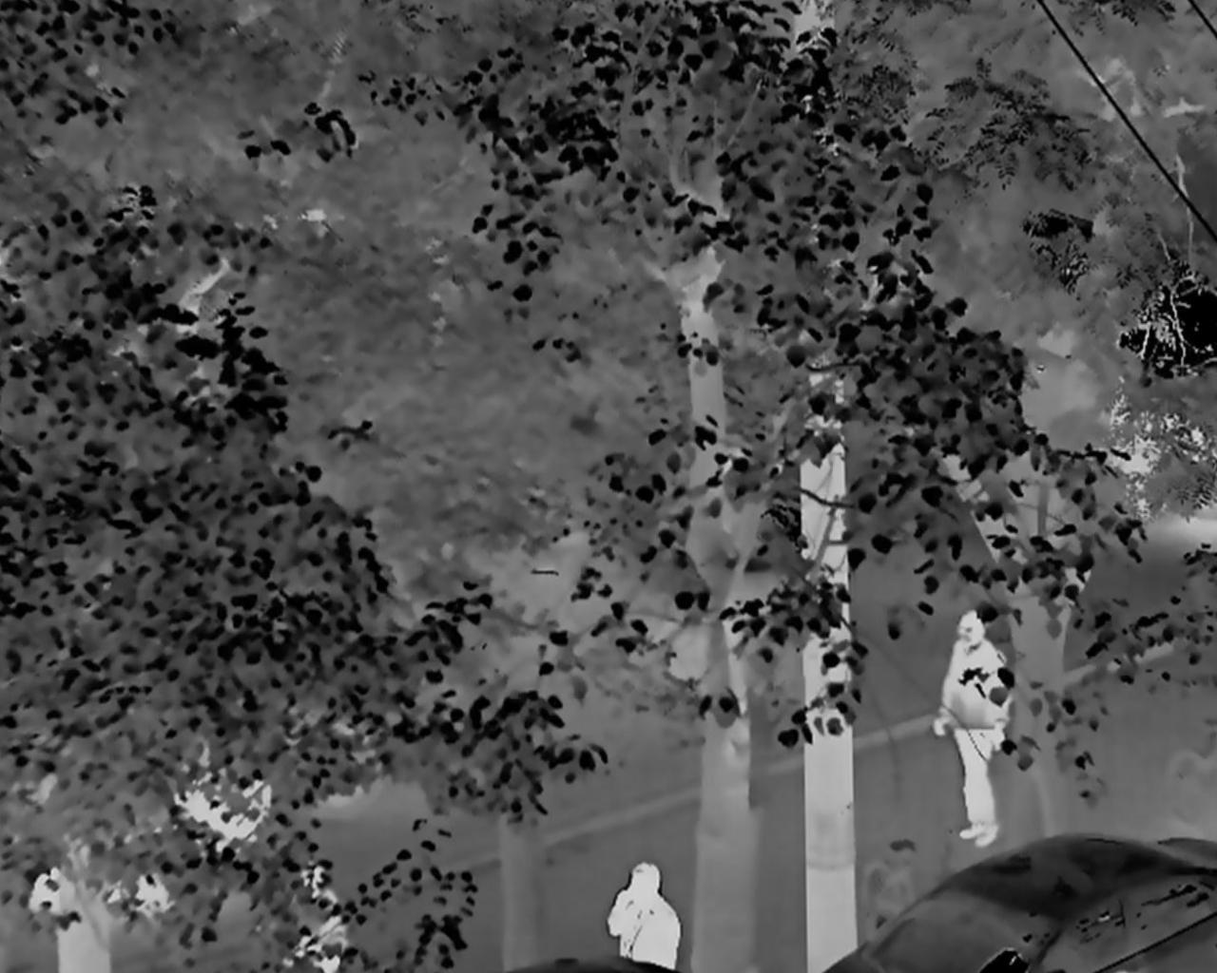person: (928, 605, 1010, 847), (603, 863, 683, 973)
